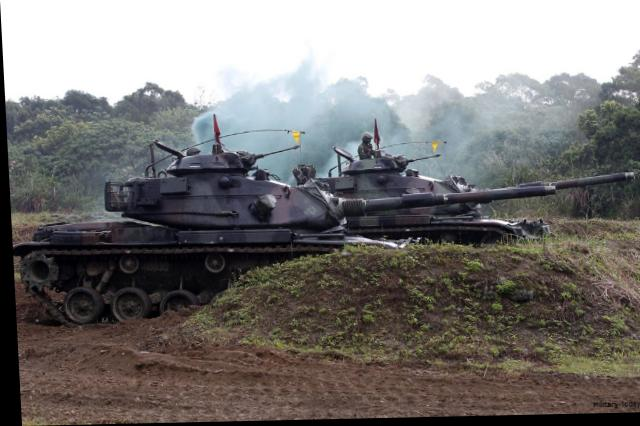tank: (13, 130, 328, 324), (268, 116, 532, 260)
